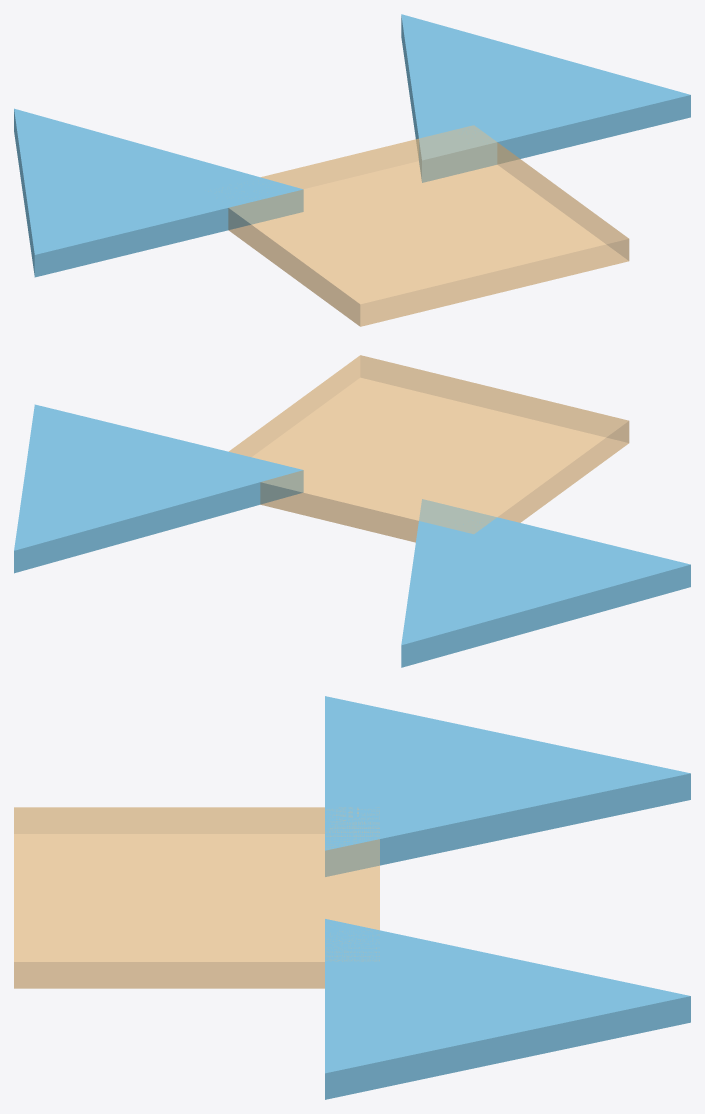
Rendered from albero_step3.glb.
The picture shows the model from 3 angles, top to bottom: view 1: azimuth 30°, elevation 25°; view 2: azimuth 150°, elevation 25°; view 3: azimuth 270°, elevation 25°; orthographic projection. The views are drawn at different scales.
Visible parts, largest first — view 1: quadrato_piccolo, triangolo_isoscele_grande, triangolo_isoscele_grande.001; view 2: quadrato_piccolo, triangolo_isoscele_grande.001, triangolo_isoscele_grande; view 3: quadrato_piccolo, triangolo_isoscele_grande.001, triangolo_isoscele_grande.
Boxes of the visible parts, left/top/right/bottom form: quadrato_piccolo: left=228, top=125, right=629, bottom=326; triangolo_isoscele_grande: left=14, top=108, right=303, bottom=277; triangolo_isoscele_grande.001: left=401, top=14, right=690, bottom=182; quadrato_piccolo: left=229, top=355, right=629, bottom=542; triangolo_isoscele_grande.001: left=14, top=404, right=303, bottom=573; triangolo_isoscele_grande: left=401, top=499, right=690, bottom=667; quadrato_piccolo: left=14, top=807, right=379, bottom=988; triangolo_isoscele_grande.001: left=325, top=919, right=690, bottom=1099; triangolo_isoscele_grande: left=325, top=696, right=690, bottom=876.
Size of the model in its own units: 2.44 by 0.08 by 1.85.
